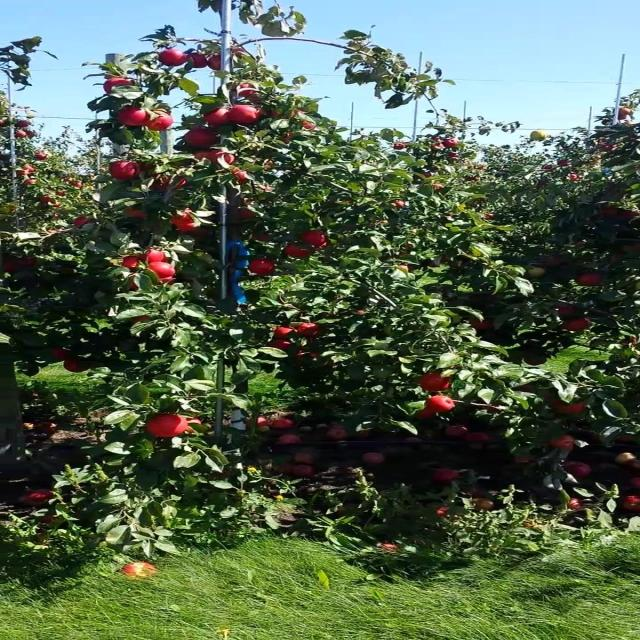apple: (148, 416, 187, 439), (184, 128, 220, 148), (113, 160, 146, 181), (419, 372, 453, 392), (120, 108, 149, 128), (170, 212, 197, 233), (227, 108, 260, 125), (148, 112, 176, 132), (554, 400, 588, 415), (156, 176, 187, 192), (426, 396, 455, 412), (284, 244, 313, 260), (248, 260, 277, 276), (205, 108, 229, 127), (141, 248, 169, 263), (106, 80, 135, 94), (148, 264, 178, 277), (305, 232, 329, 248), (163, 52, 185, 68), (561, 320, 590, 332), (575, 276, 604, 288), (298, 324, 322, 338), (554, 436, 576, 451), (212, 152, 235, 165), (63, 360, 87, 372), (120, 256, 142, 269), (184, 420, 204, 434), (205, 56, 222, 72), (269, 340, 292, 351), (525, 268, 548, 279), (127, 208, 149, 219), (298, 352, 320, 363), (468, 320, 492, 330), (20, 256, 39, 268), (77, 216, 94, 228), (241, 84, 256, 97), (191, 152, 212, 161), (397, 264, 418, 273), (276, 328, 293, 339), (547, 256, 564, 267), (191, 56, 206, 68), (234, 172, 249, 184), (6, 260, 21, 272), (241, 208, 256, 220), (56, 348, 71, 360), (618, 212, 639, 220), (419, 408, 434, 419), (525, 360, 548, 367), (604, 208, 619, 218), (163, 276, 178, 286), (305, 120, 318, 131), (561, 308, 578, 316), (291, 108, 306, 117), (269, 108, 281, 119), (234, 48, 249, 56), (248, 96, 263, 104), (134, 316, 151, 323), (284, 132, 293, 144), (255, 236, 270, 241), (397, 200, 405, 208), (518, 388, 533, 392)
